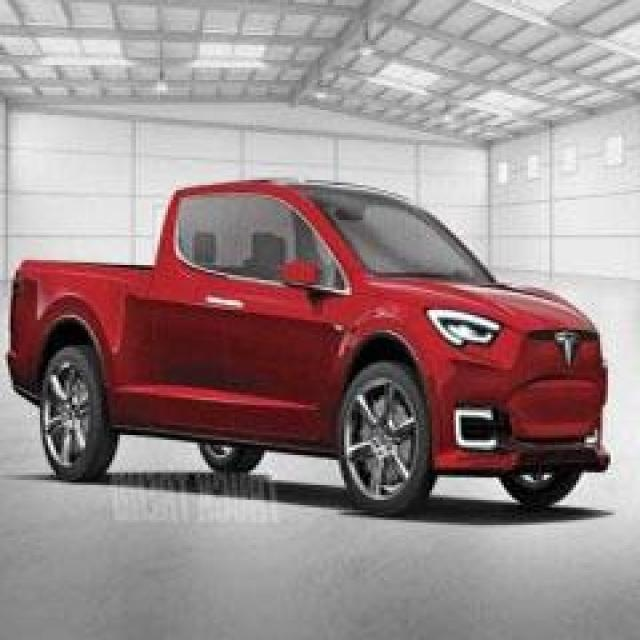car: (11, 134, 624, 536)
